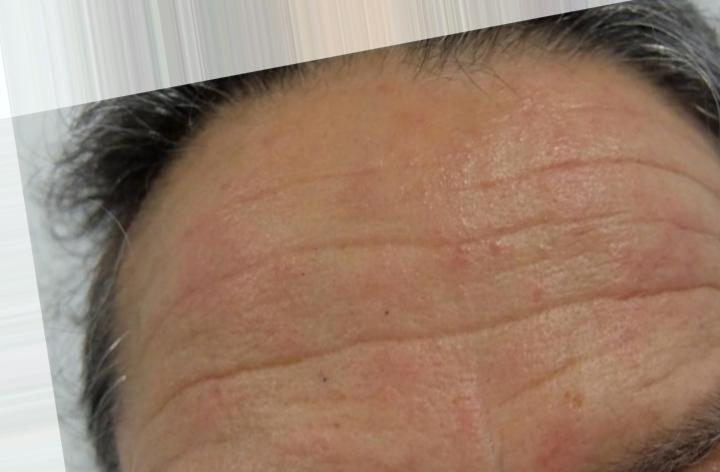Contact Dermatitis: (175, 184, 668, 405)
